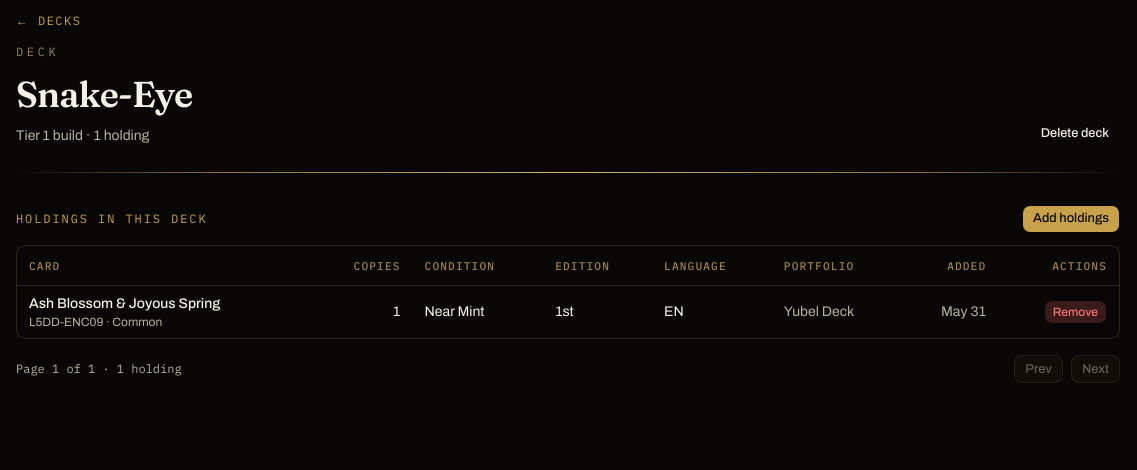
Test: DeckDetail › removes a member
The image size is (1137, 470).
Expected: the text "Ash Blossom & Joyous Spring" is shown, [29,296,220,311]
Click the button "Remove" at (1075, 312), box [1044,300,1107,324]
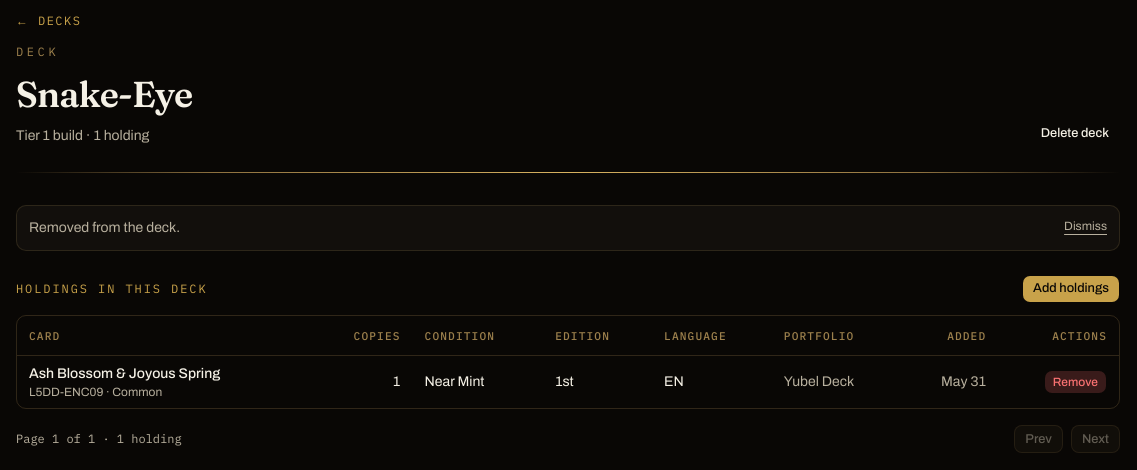
Result: the text "Removed from the deck." is shown at [29,218,180,238]
